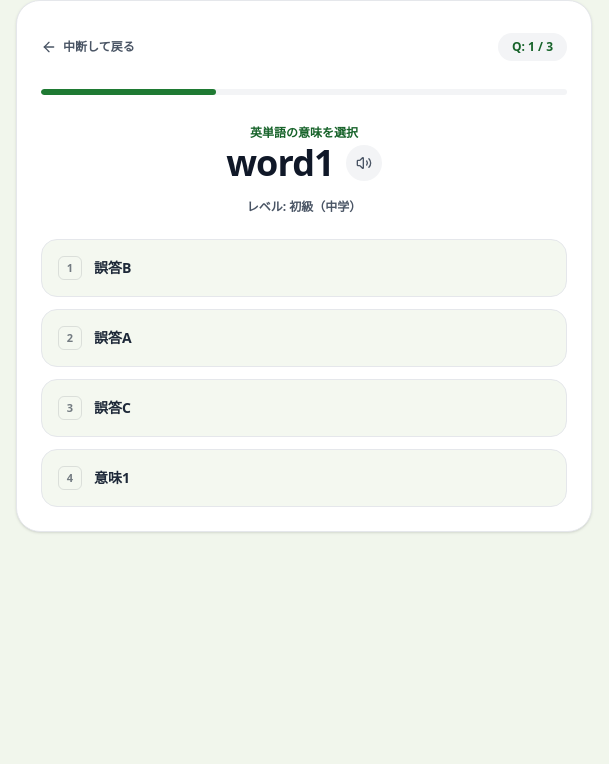
Scenario: 回答したとき › 誤答のあとは、押すまで次へ進まない（読み終える前に消さない）
This screenshot has width=609, height=764.
Click the button "1 誤答B" at [113, 268], box [41,239,567,297]
Wait 60000 ms
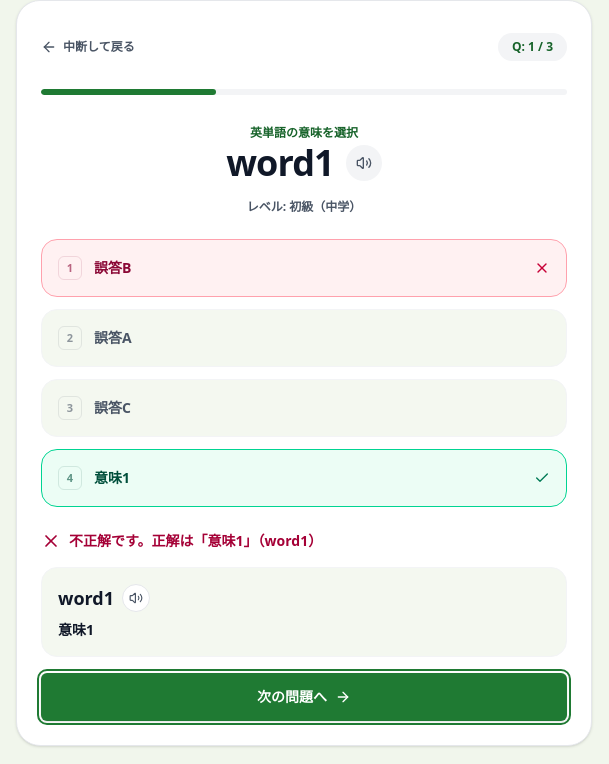
Expected: the text "Q: 1 / 3" is shown, [498,33,567,61]
Click the button with id "btn_next_question" at [304, 697], box [41,673,567,721]
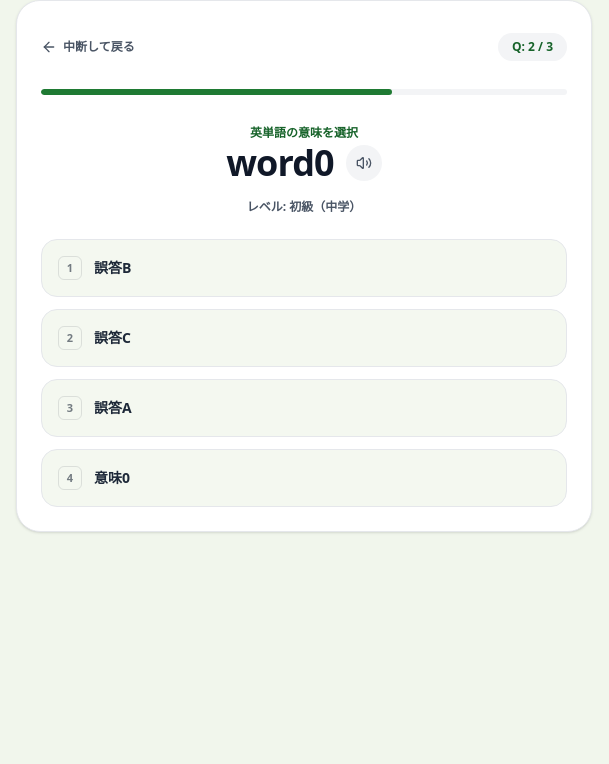
Result: the text "Q: 2 / 3" is shown at [498,33,567,61]
